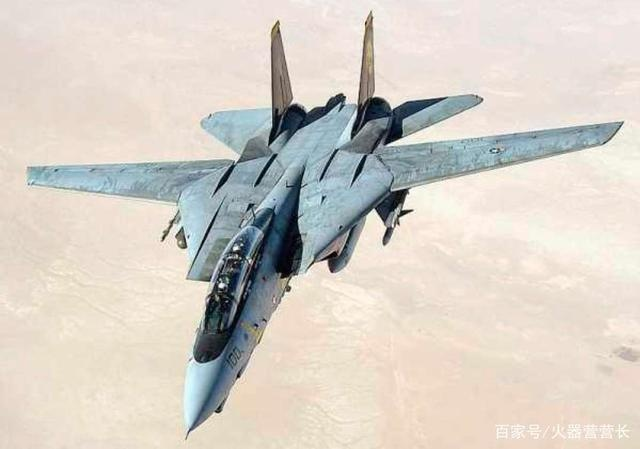airplane: (18, 7, 629, 440)
